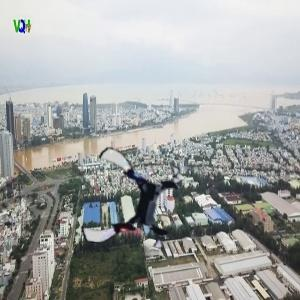drone: (81, 154, 182, 255)
